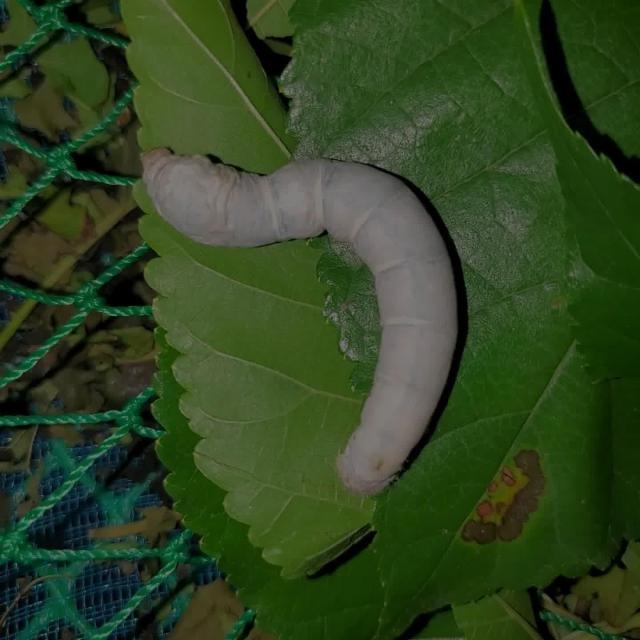Healthy: (125, 98, 516, 524)
